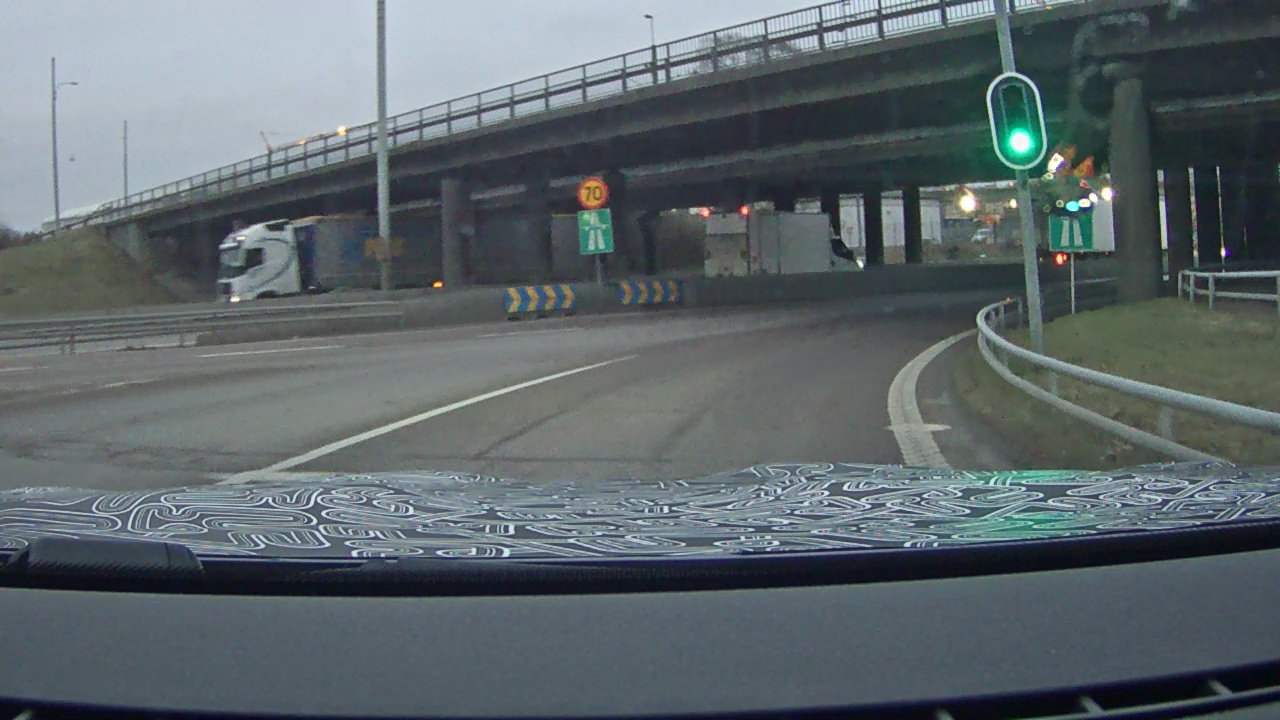Motorway_Begin: (577, 209, 613, 255)
